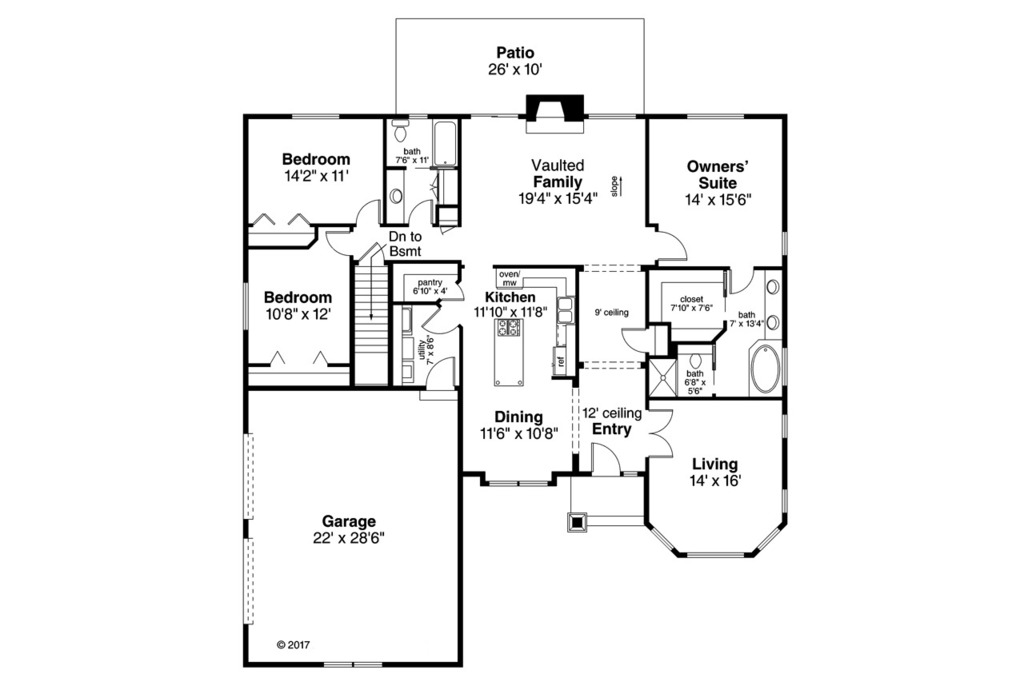door: (647, 406, 676, 462), (653, 228, 689, 263), (587, 442, 620, 478), (425, 357, 458, 390), (420, 308, 458, 335), (617, 324, 646, 355), (325, 227, 353, 259), (352, 200, 386, 225), (727, 265, 755, 295), (407, 200, 434, 229)
kitchen_bar: (491, 311, 530, 393)
large_sink: (388, 120, 412, 144)
small_sink: (761, 272, 789, 338), (385, 169, 404, 223)
stairs: (349, 264, 393, 385)
tub: (750, 336, 783, 397), (428, 116, 459, 172)
twin_sink: (554, 294, 576, 328)
windows: (238, 277, 253, 332), (485, 477, 553, 489), (322, 659, 385, 670), (680, 549, 748, 559), (682, 113, 754, 122), (289, 111, 343, 122)
